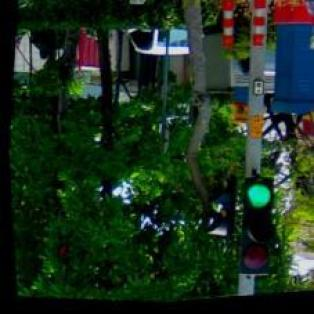Semaforo Verde: (231, 179, 278, 282)
